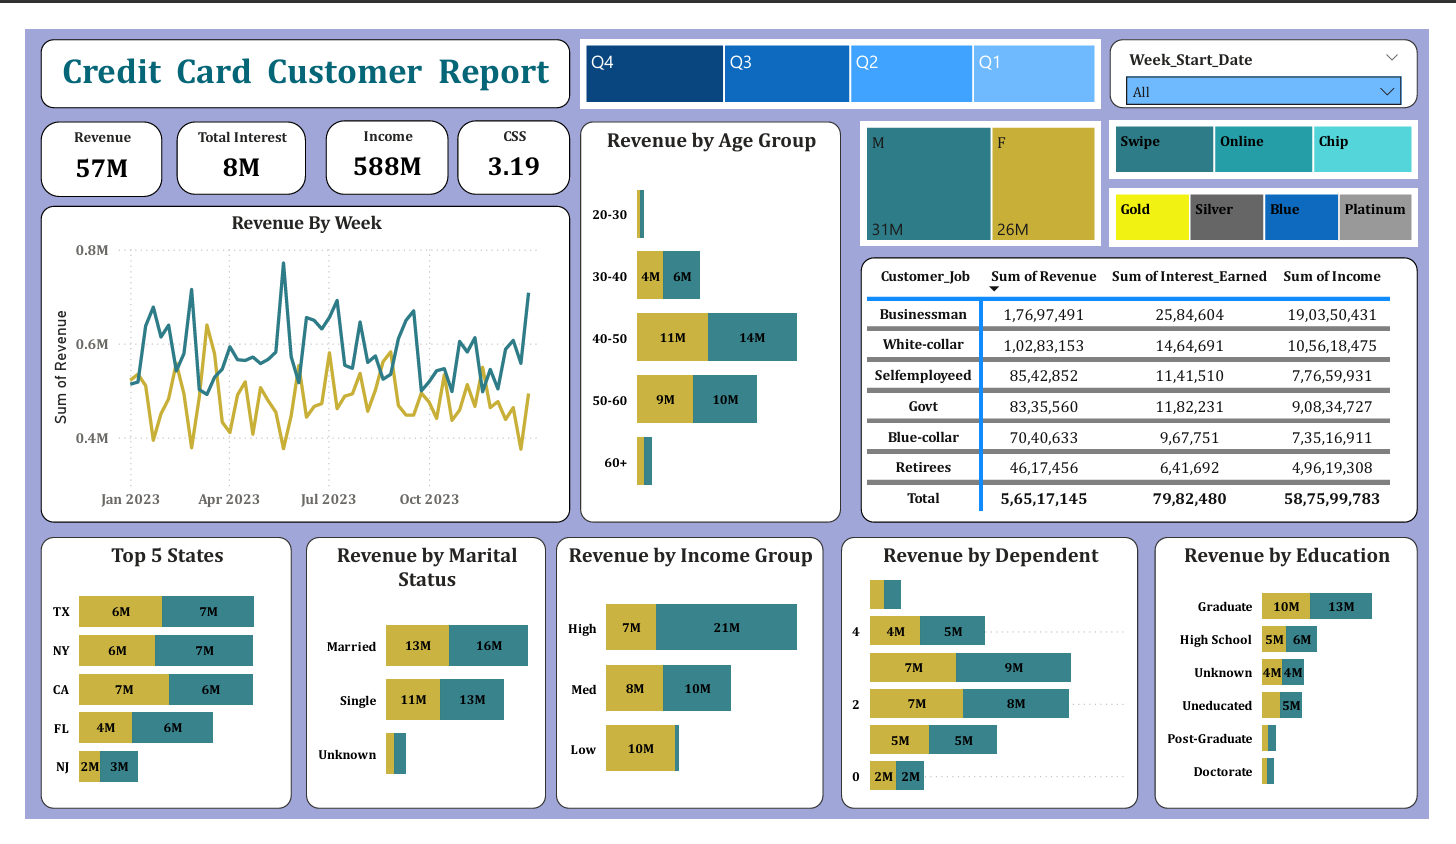

This screenshot's page, from the dashboard's own definition file:
{"tool":"powerbi","page":{"name":"Customer","canvas":[1280,720],"ordinal":1},"visuals":[{"type":"textbox","box":[13.6,8.7,483.8,63.3],"z":0},{"type":"barChart","title":"Revenue by Income Group","fields":{"Y":["Sum(credit_card.Revenue)"],"Category":["customer.IncomeGroup"],"Series":["customer.Gender"]},"box":[483.8,462.7,244.4,248.1],"z":1000},{"type":"card","title":"Revenue","fields":{"Values":["Sum(credit_card.Revenue)"]},"box":[13.6,84.4,111.6,68.2],"z":2000},{"type":"card","title":"Income","fields":{"Values":["Sum(customer.Income)"]},"box":[274.2,83.1,111.6,68.2],"z":3000},{"type":"card","title":"Total Interest","fields":{"Values":["Sum(credit_card.Interest_Earned)"]},"box":[137.7,84.4,117.9,67],"z":4000},{"type":"card","title":"CSS","fields":{"Values":["Avg(customer.Cust_Satisfaction_Score)"]},"box":[394.5,83.1,103,68.2],"z":5000},{"type":"slicer","fields":{"Values":["credit_card.Week_Start_Date"]},"box":[988.7,8.7,281.6,63.3],"z":6000},{"type":"treemap","fields":{"Group":["credit_card.Qtr"],"Values":["Avg(credit_card.Client_Num)"]},"box":[506.1,8.7,475.1,63.3],"z":7000},{"type":"treemap","fields":{"Values":["Avg(credit_card.Client_Num)"],"Group":["credit_card.Card_Category"]},"box":[988.7,145.1,281.6,53.3],"z":8000},{"type":"pivotTable","fields":{"Rows":["customer.Customer_Job"],"Values":["Sum(credit_card.Revenue)","Sum(credit_card.Interest_Earned)","Sum(customer.Income)"]},"box":[761.6,208.1,508.1,241.9],"z":9000},{"type":"lineChart","title":"Revenue By Week","fields":{"Y":["Sum(credit_card.Revenue)"],"Series":["customer.Gender"],"Category":["credit_card.Week_Start_Date.Variation.Date Hierarchy.Year","credit_card.Week_Start_Date.Variation.Date Hierarchy.Month","credit_card.Week_Start_Date.Variation.Date Hierarchy.Day"]},"box":[13.6,161.3,483.8,289],"z":10000},{"type":"treemap","fields":{"Group":["customer.Gender"],"Values":["Sum(credit_card.Revenue)"]},"box":[761.7,84.4,219.6,114.1],"z":11000},{"type":"barChart","title":"Revenue by Age Group","fields":{"Y":["Sum(credit_card.Revenue)"],"Category":["customer.AgeGroup"],"Series":["customer.Gender"]},"box":[506.1,84.4,238.2,366],"z":12000},{"type":"barChart","title":"Revenue by Dependent","fields":{"Y":["Sum(credit_card.Revenue)"],"Category":["customer.Dependent_Count"],"Series":["customer.Gender"]},"box":[744.3,462.7,270.4,248.1],"z":13000},{"type":"barChart","title":"Revenue by Education","fields":{"Y":["Sum(credit_card.Revenue)"],"Category":["customer.Education_Level"],"Series":["customer.Gender"]},"box":[1029.7,462.7,240.7,248.1],"z":14000},{"type":"barChart","title":"Top 5 States","fields":{"Y":["Sum(credit_card.Revenue)"],"Category":["customer.state_cd"],"Series":["customer.Gender"]},"box":[13.6,462.7,229.5,248.1],"z":15000},{"type":"barChart","title":"Revenue by Marital Status","fields":{"Y":["Sum(credit_card.Revenue)"],"Category":["customer.Marital_Status"],"Series":["customer.Gender"]},"box":[255.6,462.7,219.6,248.1],"z":16000},{"type":"treemap","fields":{"Values":["Avg(credit_card.Client_Num)"],"Group":["credit_card.Use Chip"]},"box":[988.7,83.1,281.6,53.3],"z":17000}]}

Visuals, with their boxes in screenshot pixels (x1, y1, x2, y2), scaled from the page's 1280x720 canvas onto the 1456x844 screenshot:
textbox: 15 10 566 84
"Revenue by Income Group" barChart: 550 542 828 833
"Revenue" card: 15 99 142 179
"Income" card: 312 97 439 177
"Total Interest" card: 157 99 291 177
"CSS" card: 449 97 566 177
slicer - credit_card.Week_Start_Date: 1125 10 1445 84
treemap - credit_card.Qtr x Avg(credit_card.Client_Num): 576 10 1116 84
treemap - Avg(credit_card.Client_Num) x credit_card.Card_Category: 1125 170 1445 233
pivotTable - customer.Customer_Job x Sum(credit_card.Revenue): 866 244 1444 528
"Revenue By Week" lineChart: 15 189 566 528
treemap - customer.Gender x Sum(credit_card.Revenue): 866 99 1116 233
"Revenue by Age Group" barChart: 576 99 847 528
"Revenue by Dependent" barChart: 847 542 1154 833
"Revenue by Education" barChart: 1171 542 1445 833
"Top 5 States" barChart: 15 542 277 833
"Revenue by Marital Status" barChart: 291 542 541 833
treemap - Avg(credit_card.Client_Num) x credit_card.Use Chip: 1125 97 1445 160
